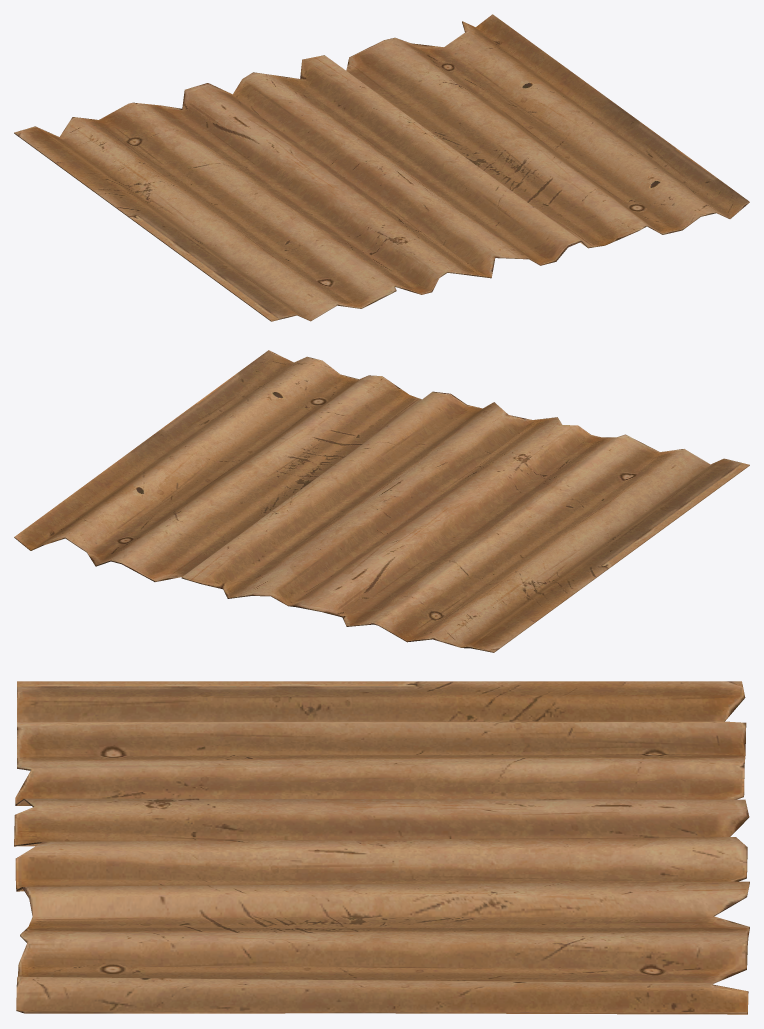
File: SM_corrugated_sheet_02.glb
3 views of the same model, one above another, from view 1: azimuth 30°, elevation 25°; view 2: azimuth 150°, elevation 25°; view 3: azimuth 270°, elevation 25° (orthographic). The views are drawn at different scales.
Visible parts, largest first — view 1: SM_corrugated_sheet_02; view 2: SM_corrugated_sheet_02; view 3: SM_corrugated_sheet_02.
Part boxes in pixels (bbox=[...]): SM_corrugated_sheet_02: bbox=[14, 14, 749, 321]; SM_corrugated_sheet_02: bbox=[14, 350, 749, 652]; SM_corrugated_sheet_02: bbox=[14, 681, 749, 1014].
Size of the model in its own units: 1.76 by 0.0354 by 1.65.
Materials: 1 (1 with a texture image).
